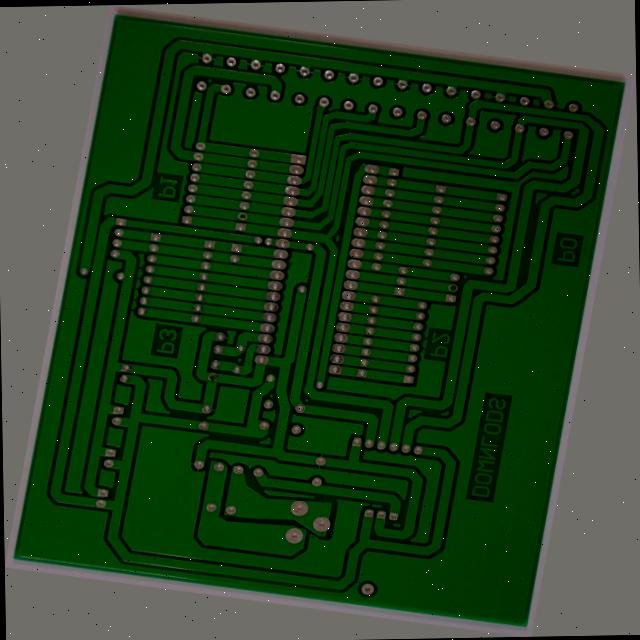missing_hole: (459, 254, 477, 267), (195, 210, 210, 223), (197, 395, 214, 406)
